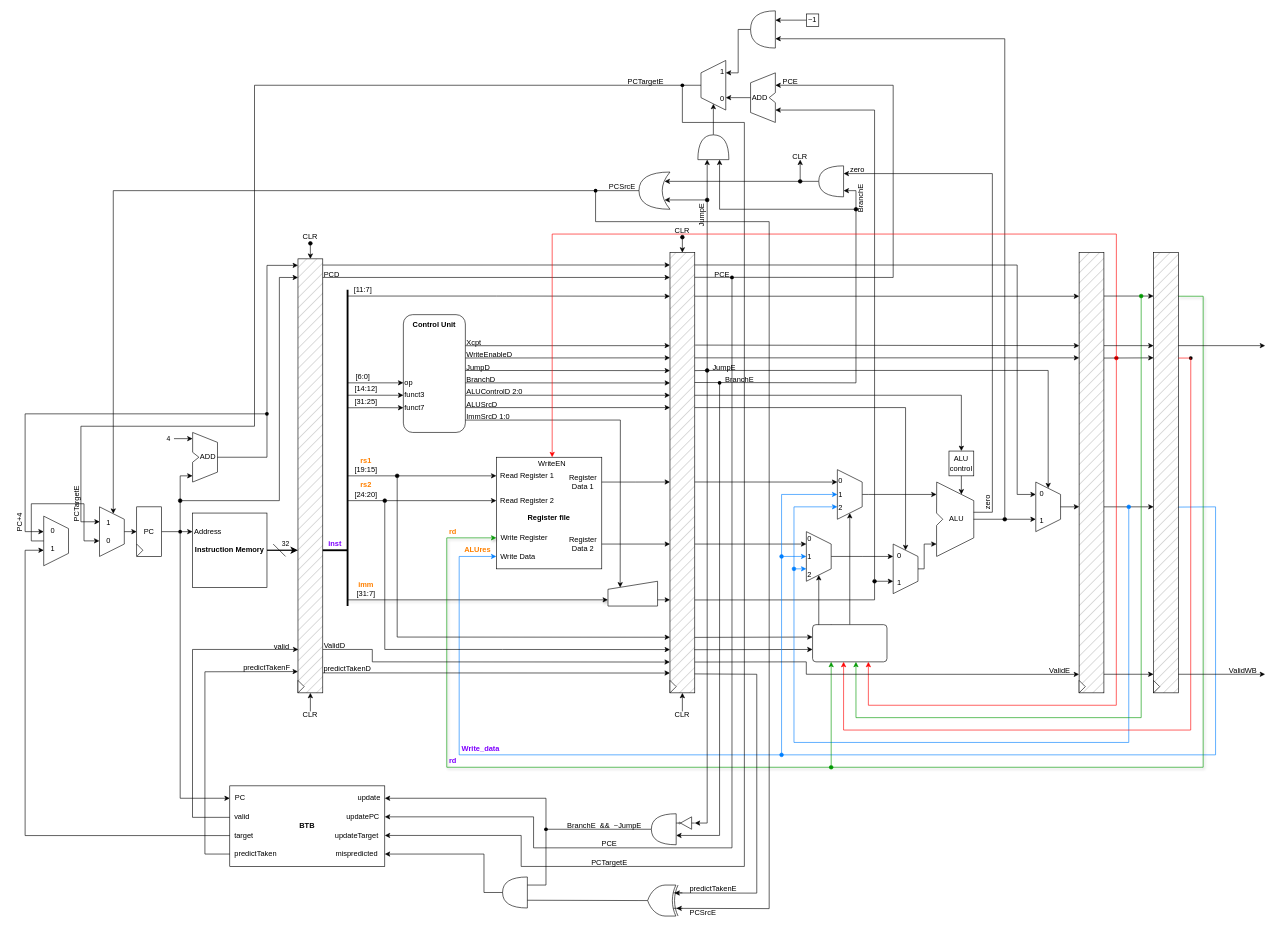
Image size: 1281x928. Some labels were removed from this diagram. Here are the shapes that lost their labels. From the top down, the centre of each, then its label:
the point at 310,475: IF/DI
the point at 682,472: DI/EX
the point at 1091,472: EX/MEM
the point at 1165,472: MEM/WB
the point at 632,593: Sign extend
the point at 849,643: ForwardUnit
